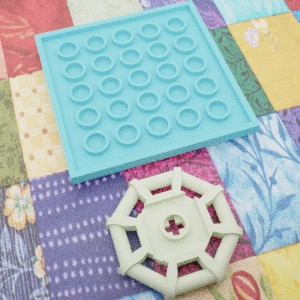lego: (34, 0, 260, 184), (105, 167, 242, 300)
